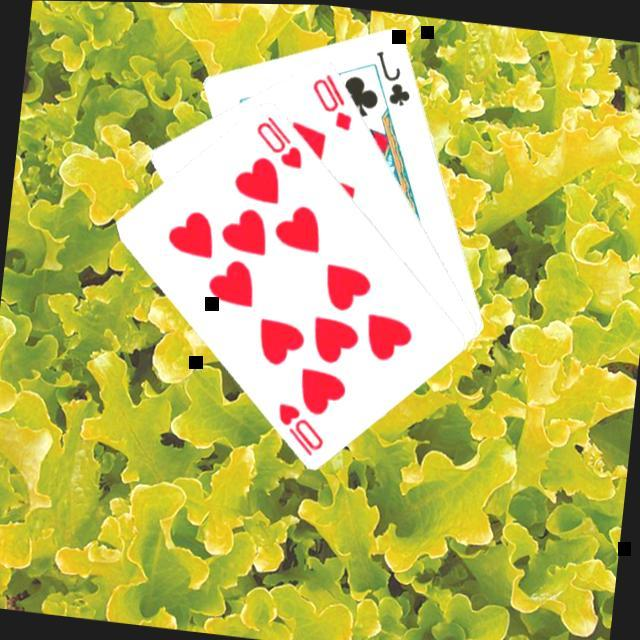10D: (303, 65, 359, 131)
10H: (248, 107, 309, 169), (269, 395, 330, 457)
JC: (367, 42, 418, 107)
